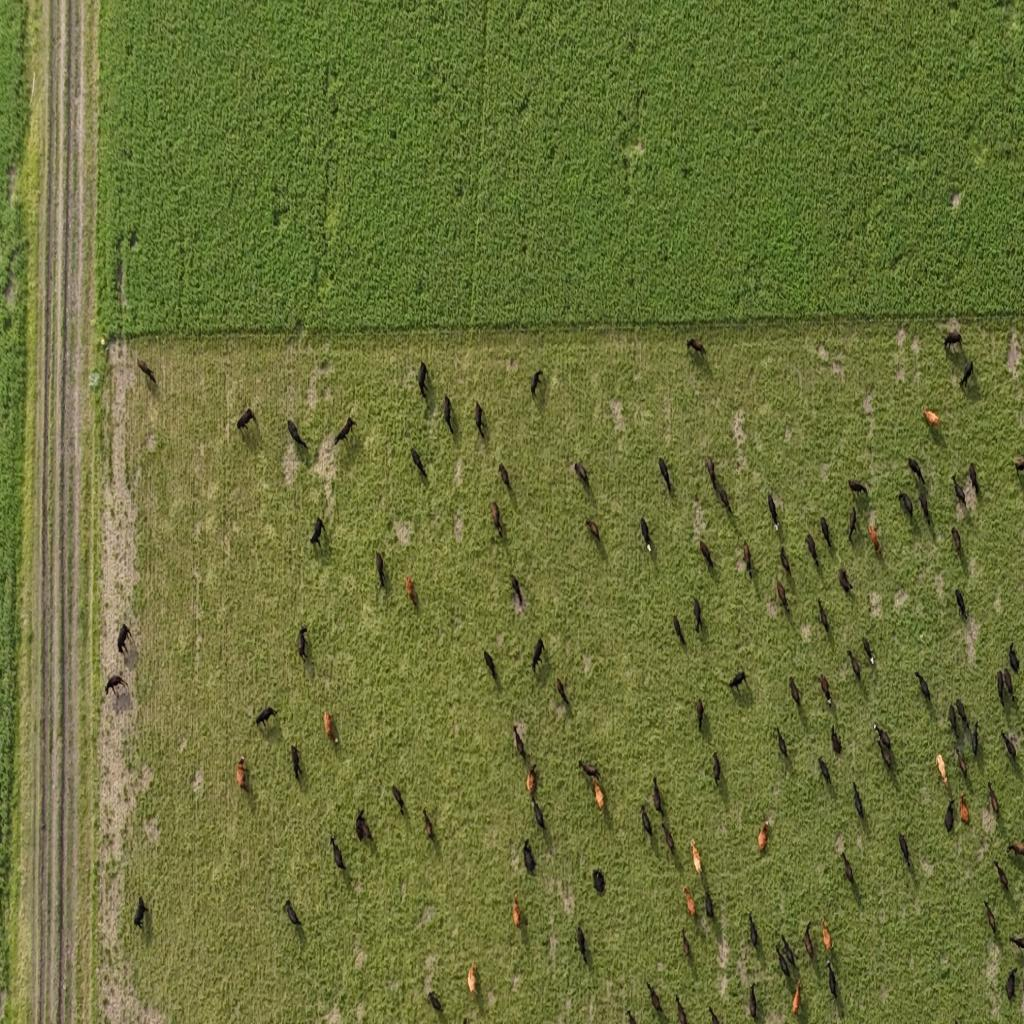cow: (956, 355, 978, 395), (334, 412, 356, 445), (287, 418, 309, 450), (873, 721, 893, 753), (330, 834, 346, 873), (284, 898, 303, 930), (997, 669, 1013, 707), (254, 705, 278, 730), (355, 808, 372, 843), (1000, 729, 1017, 764), (914, 670, 932, 703), (410, 447, 427, 481), (852, 780, 865, 824), (907, 456, 926, 486), (898, 832, 912, 872), (918, 488, 932, 528), (727, 670, 748, 696), (715, 482, 732, 514), (647, 982, 663, 1016), (323, 710, 338, 746), (236, 407, 256, 434), (490, 500, 504, 538), (842, 851, 856, 889), (686, 337, 708, 361), (578, 757, 599, 782), (995, 860, 1010, 895), (575, 923, 588, 963), (767, 491, 780, 531), (986, 781, 1000, 818), (658, 457, 672, 494), (133, 896, 148, 930), (531, 796, 545, 832), (424, 804, 436, 846), (105, 674, 126, 698), (662, 820, 676, 856), (880, 736, 894, 772), (137, 360, 156, 386), (640, 519, 653, 557), (818, 599, 831, 637), (985, 899, 998, 937), (803, 921, 815, 962), (532, 636, 545, 673), (523, 839, 536, 876), (555, 677, 570, 709), (943, 330, 963, 354), (417, 360, 429, 400), (898, 491, 914, 521), (484, 649, 498, 683), (510, 576, 524, 610), (442, 394, 454, 433), (1005, 968, 1018, 1004), (782, 932, 795, 968), (574, 461, 590, 490), (117, 623, 131, 656), (700, 539, 714, 572), (641, 804, 653, 842), (474, 400, 486, 438), (291, 744, 303, 782), (776, 577, 789, 612), (956, 747, 969, 782), (789, 676, 802, 711), (848, 648, 861, 683), (806, 533, 819, 568), (827, 960, 838, 1001), (585, 518, 601, 546), (310, 516, 324, 548), (818, 674, 832, 706), (392, 783, 406, 815), (862, 637, 876, 669), (776, 945, 790, 977), (514, 724, 526, 761), (742, 541, 754, 578), (968, 462, 980, 499), (936, 752, 949, 786), (776, 727, 789, 761), (652, 774, 663, 814), (375, 550, 386, 590), (748, 910, 759, 950), (690, 839, 702, 875), (780, 544, 792, 580), (405, 575, 418, 608), (820, 516, 832, 551), (297, 623, 308, 661), (1005, 840, 1024, 862), (868, 522, 881, 554), (818, 755, 831, 787), (838, 567, 852, 596), (498, 462, 511, 493), (530, 369, 543, 400), (848, 478, 868, 498), (237, 756, 248, 792), (673, 614, 685, 647), (792, 977, 802, 1016), (944, 798, 955, 833), (948, 702, 959, 737), (684, 886, 696, 918), (757, 821, 769, 853), (705, 455, 717, 487), (955, 588, 967, 620), (956, 698, 968, 730), (822, 916, 832, 954), (848, 504, 858, 542), (704, 886, 715, 920), (831, 723, 842, 757), (427, 991, 443, 1014), (592, 868, 605, 896), (594, 779, 605, 812), (959, 792, 970, 825), (692, 598, 702, 634), (952, 526, 962, 561), (676, 995, 688, 1024), (749, 983, 758, 1021), (526, 765, 537, 796), (512, 891, 521, 928), (712, 750, 721, 787), (467, 962, 477, 994), (923, 408, 939, 428), (971, 720, 979, 759), (696, 697, 705, 731), (682, 934, 692, 964), (1016, 642, 1024, 676), (708, 1004, 721, 1024), (626, 1009, 637, 1024), (1017, 456, 1024, 475)
